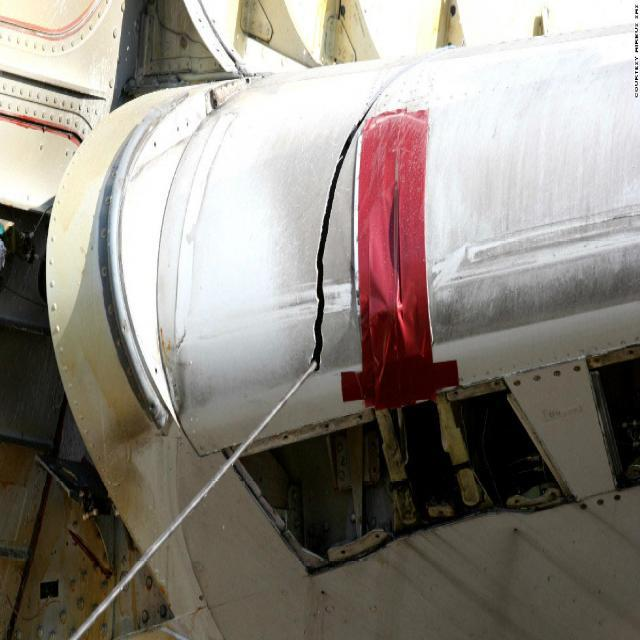crack: (296, 78, 372, 384)
